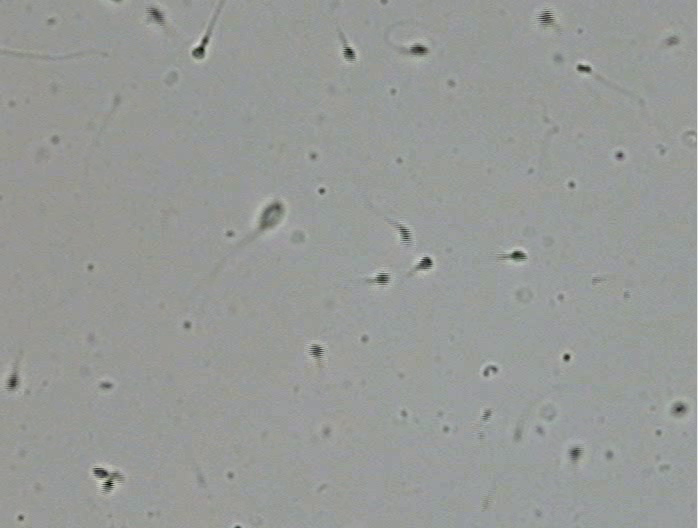S: (259, 201, 284, 230), (146, 7, 165, 25), (396, 224, 412, 245), (537, 9, 555, 27), (409, 43, 429, 57), (309, 344, 325, 359), (5, 374, 19, 391), (342, 46, 356, 63), (92, 466, 109, 479), (510, 250, 528, 262), (375, 271, 390, 285), (418, 256, 433, 270), (568, 445, 582, 460), (672, 402, 687, 415), (101, 480, 115, 493), (192, 46, 206, 58), (576, 64, 592, 73)
